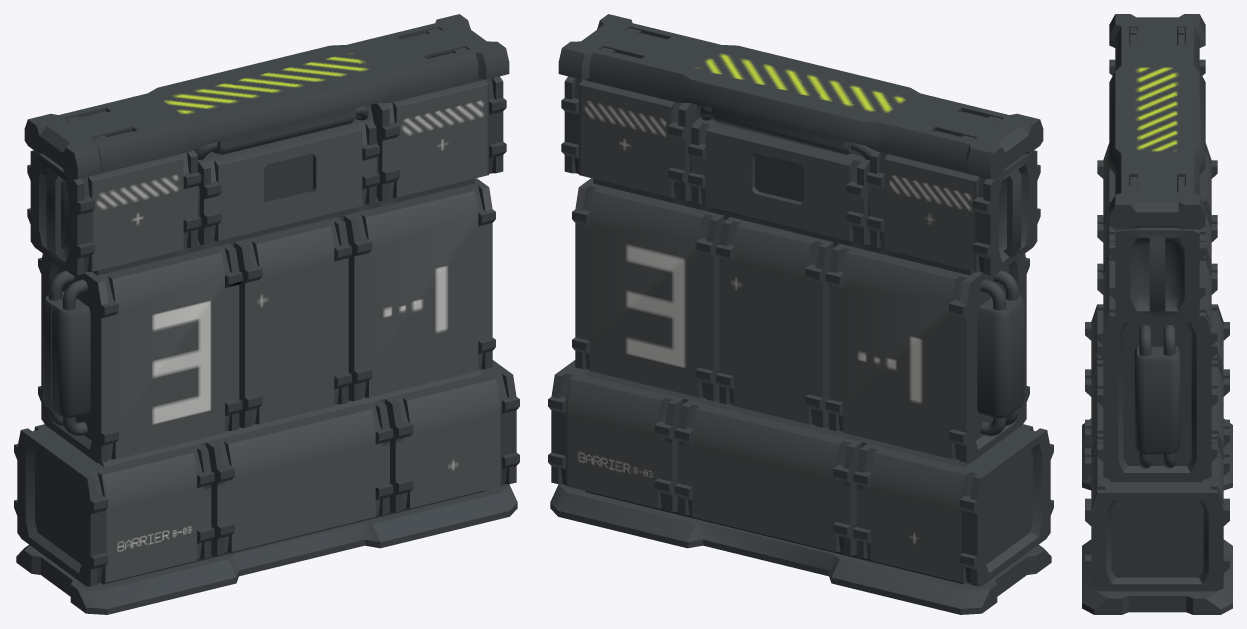
The model's file is high-wall.glb.
The picture shows the model from 3 angles, left to right: view 1: azimuth 30°, elevation 25°; view 2: azimuth 150°, elevation 25°; view 3: azimuth 270°, elevation 25°; orthographic projection. The views are drawn at different scales.
Visible parts, largest first — view 1: high-wall-medium; view 2: high-wall-medium; view 3: high-wall-medium.
Part boxes in pixels (x1,y1,x2,y2): high-wall-medium: (14, 14, 519, 614); high-wall-medium: (548, 14, 1053, 614); high-wall-medium: (1082, 14, 1232, 614).
Bounding box in the file's own units: 75.08 × 75 × 25.
Materials: 1 (1 with a texture image).
